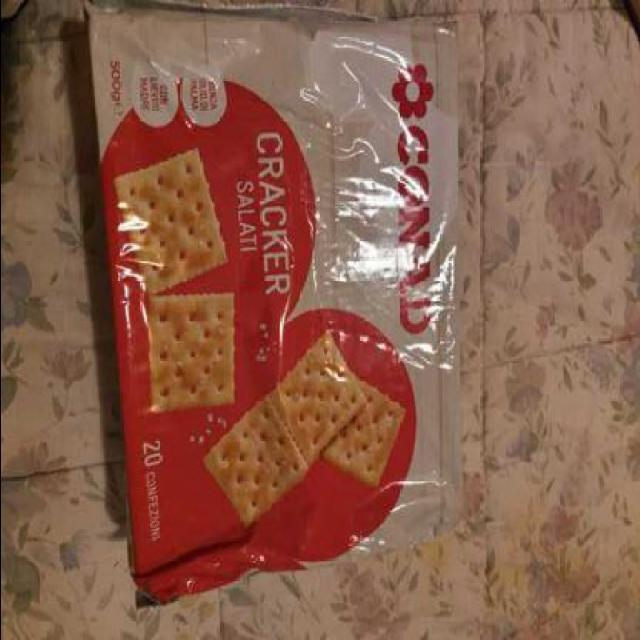Cracker: (74, 8, 463, 620)
